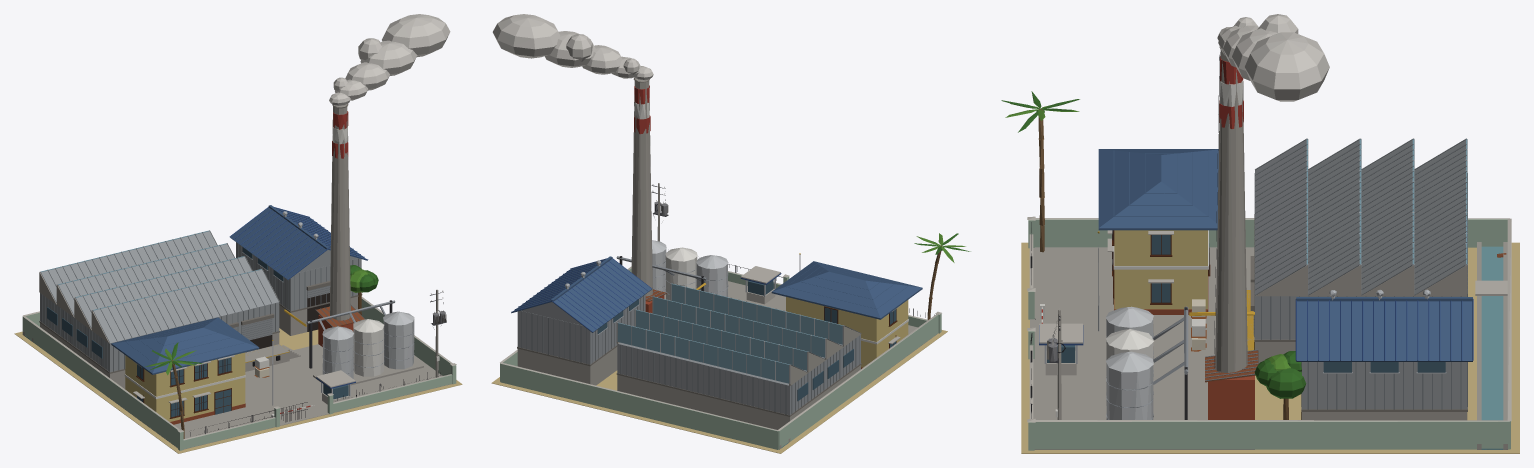
File: factory_4.glb
3 views of the same model, side by side, from view 1: azimuth 30°, elevation 25°; view 2: azimuth 150°, elevation 25°; view 3: azimuth 270°, elevation 25° (orthographic). The views are drawn at different scales.
Visible parts, largest first — view 1: body, windows; view 2: body, windows; view 3: body, windows.
Boxes of the visible parts, x1,y1,x2,y2 form: body: [14, 14, 462, 453]; windows: [47, 247, 348, 417]; body: [491, 14, 970, 453]; windows: [597, 280, 896, 401]; body: [1001, 14, 1519, 453]; windows: [1047, 235, 1445, 419].
Bounding box in the file's own units: 42.95 × 31.42 × 33.19.
